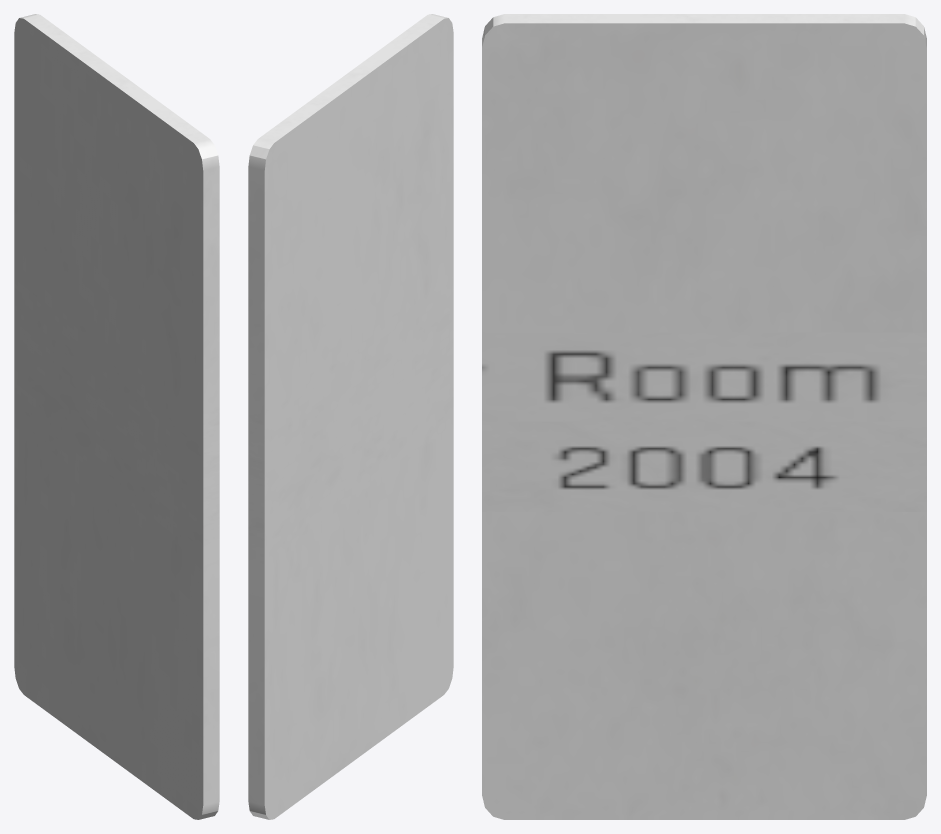
The picture shows the model from 3 angles, left to right: view 1: azimuth 30°, elevation 25°; view 2: azimuth 150°, elevation 25°; view 3: azimuth 270°, elevation 25°; orthographic projection. The views are drawn at different scales.
Parts seen in each view (by area): view 1: pCube25; view 2: pCube25; view 3: pCube25.
Part boxes in pixels (<box>): pCube25: <box>14,14,219,819</box>; pCube25: <box>248,14,453,819</box>; pCube25: <box>482,14,926,819</box>.
Size of the model in its own units: 0.0309 by 1.22 by 0.6162.
Materials: 1 (1 with a texture image).
